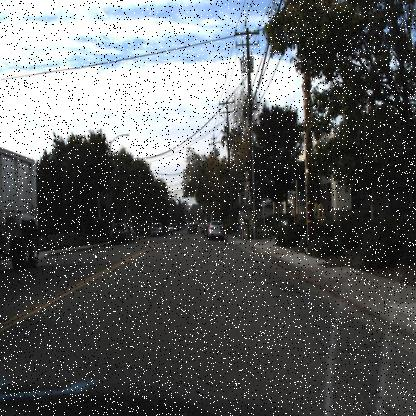car: (106, 220, 126, 246), (206, 217, 224, 244), (124, 221, 138, 245), (148, 226, 160, 240)
truck: (0, 142, 40, 274)
